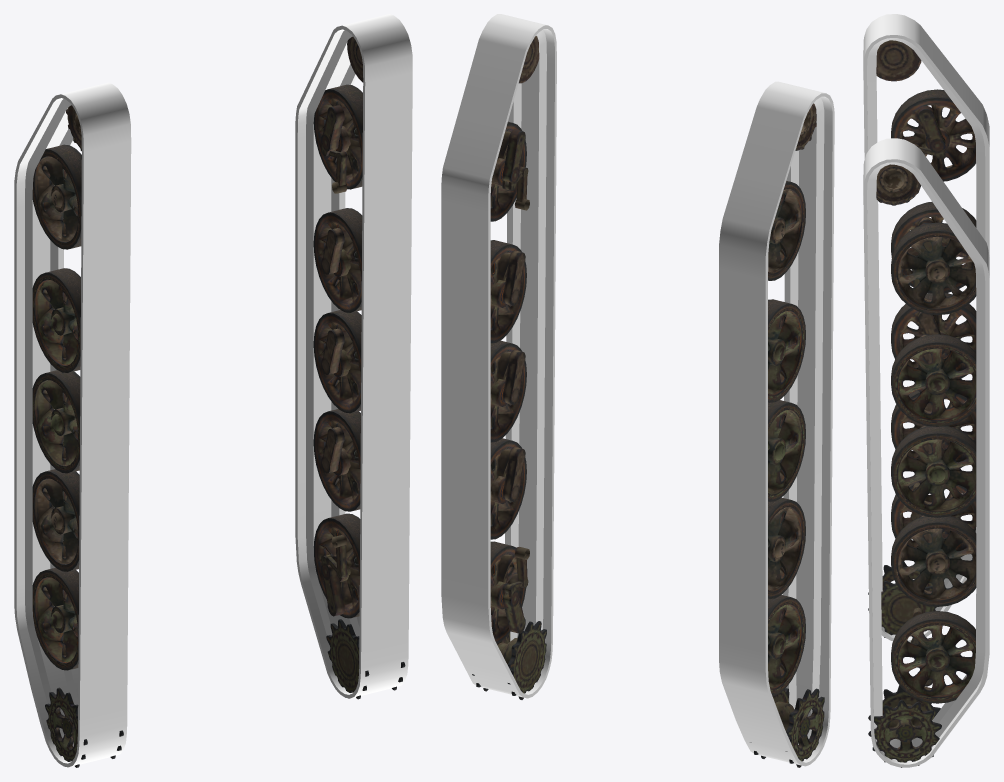
The model's file is Chassis_02.glb.
The picture shows the model from 3 angles, left to right: view 1: azimuth 30°, elevation 25°; view 2: azimuth 150°, elevation 25°; view 3: azimuth 270°, elevation 25°; orthographic projection. The views are drawn at different scales.
Parts seen in each view (by area): view 1: set_1_group_0, set_0_group_0, set_2_group_0, set_3_group_0; view 2: set_1_group_0, set_0_group_0, set_3_group_0, set_2_group_0; view 3: set_3_group_0, set_1_group_0, set_2_group_0, set_0_group_0.
Boxes of the visible parts, x1,y1,x2,y2 form: set_1_group_0: [295, 14, 412, 698]; set_0_group_0: [14, 82, 131, 767]; set_2_group_0: [32, 105, 123, 767]; set_3_group_0: [313, 36, 405, 699]; set_1_group_0: [441, 14, 556, 698]; set_0_group_0: [719, 81, 834, 766]; set_3_group_0: [472, 36, 546, 699]; set_2_group_0: [750, 103, 824, 767]; set_3_group_0: [868, 164, 976, 767]; set_1_group_0: [863, 138, 989, 767]; set_2_group_0: [868, 40, 976, 637]; set_0_group_0: [863, 14, 989, 642].
Size of the model in its own units: 2.81 by 5.5 by 1.03.
4 materials, 2 textured.
